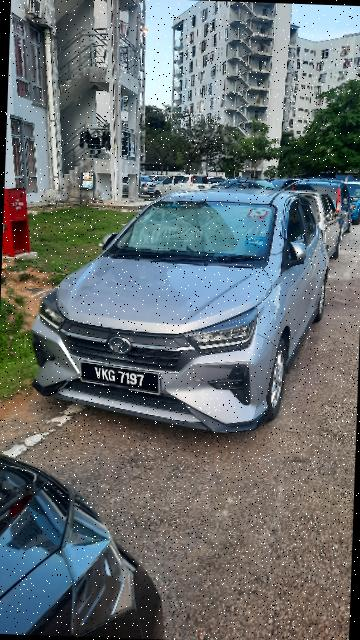License_Plate: (77, 357, 169, 400)
car: (26, 178, 336, 442)
